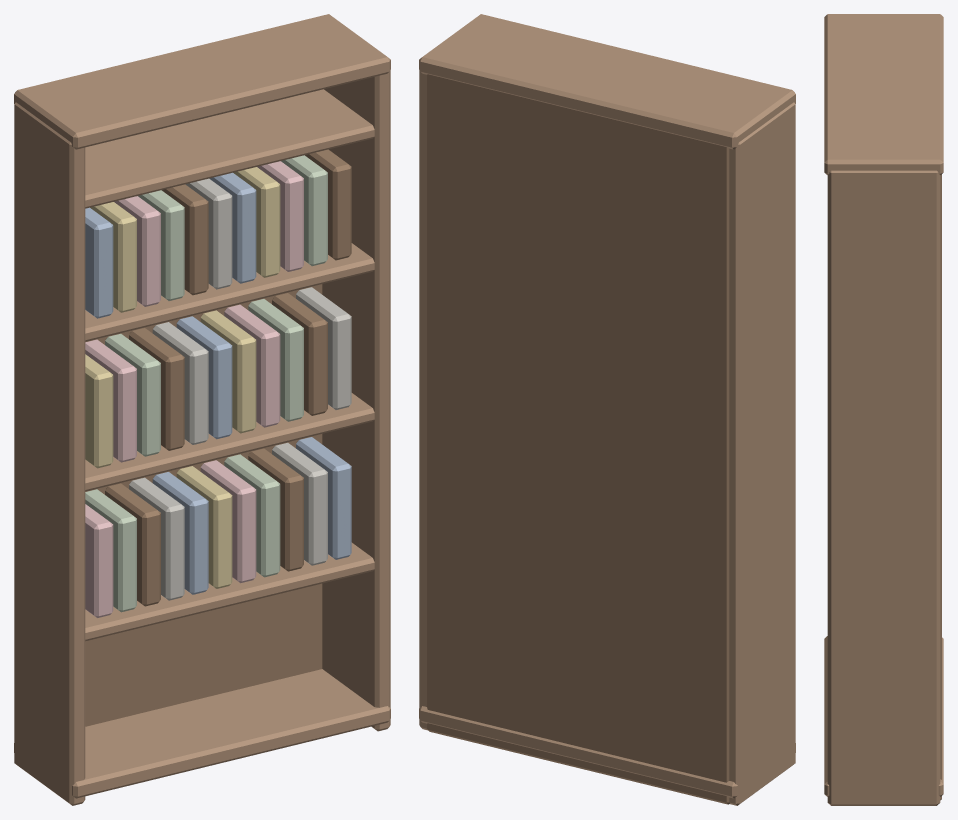
The model's file is SM_Bookshelf_01.fbx.
3 views of the same model, side by side, from view 1: azimuth 30°, elevation 25°; view 2: azimuth 150°, elevation 25°; view 3: azimuth 270°, elevation 25° (orthographic). The views are drawn at different scales.
Visible parts, largest first — view 1: Bookshelf_01; view 2: Bookshelf_01; view 3: Bookshelf_01.
Boxes of the visible parts, x1=… form: Bookshelf_01: x1=14, y1=14, x2=390, y2=805; Bookshelf_01: x1=419, y1=14, x2=795, y2=805; Bookshelf_01: x1=824, y1=14, x2=943, y2=805.
Size of the model in its own units: 101 by 203 by 34.
